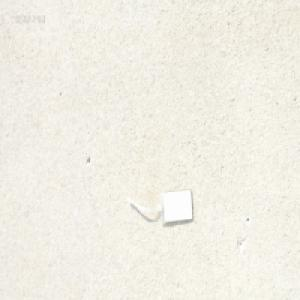LuggageTag: (121, 183, 192, 225)
